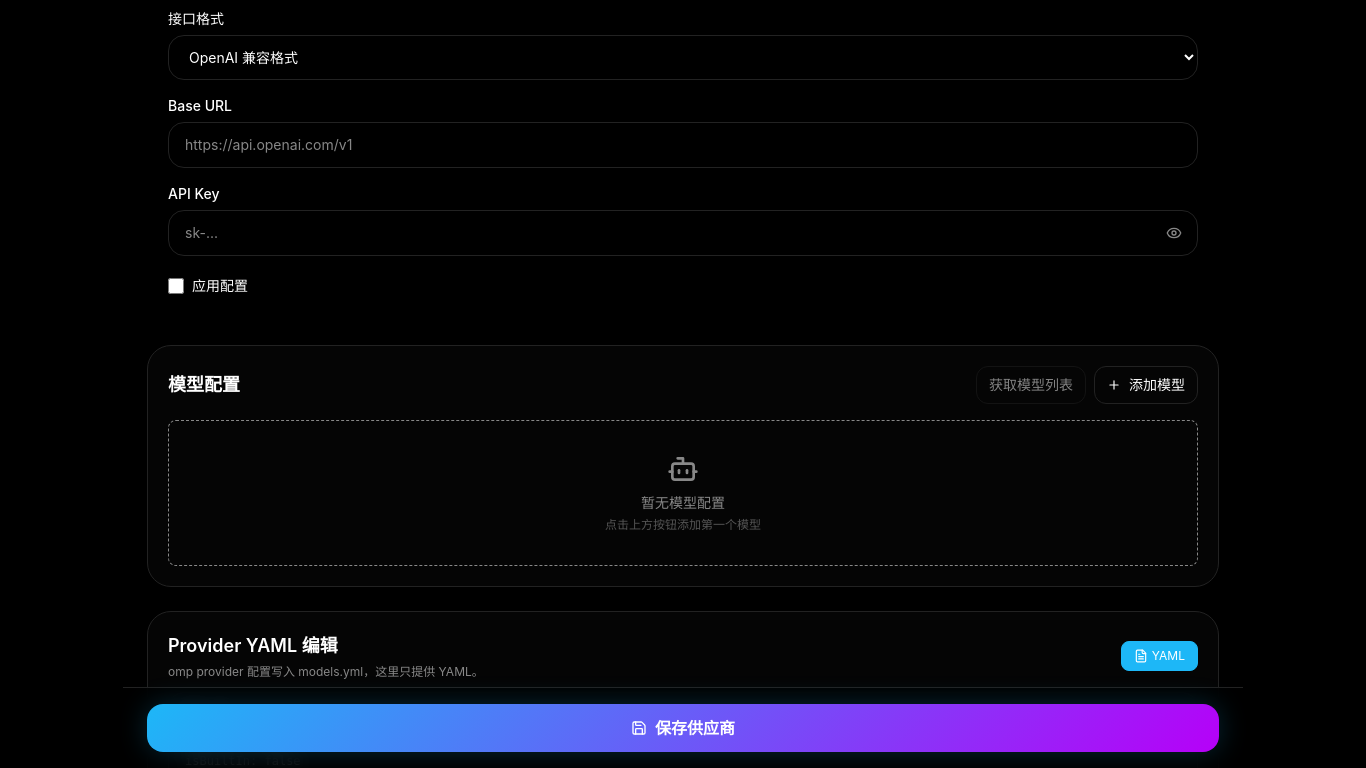
Test: ProviderEditor › cancels model editor
The image size is (1366, 768).
(page scrolled)
Click the button with test id "add-model-btn": [1146, 384] box [1094,366,1198,404]
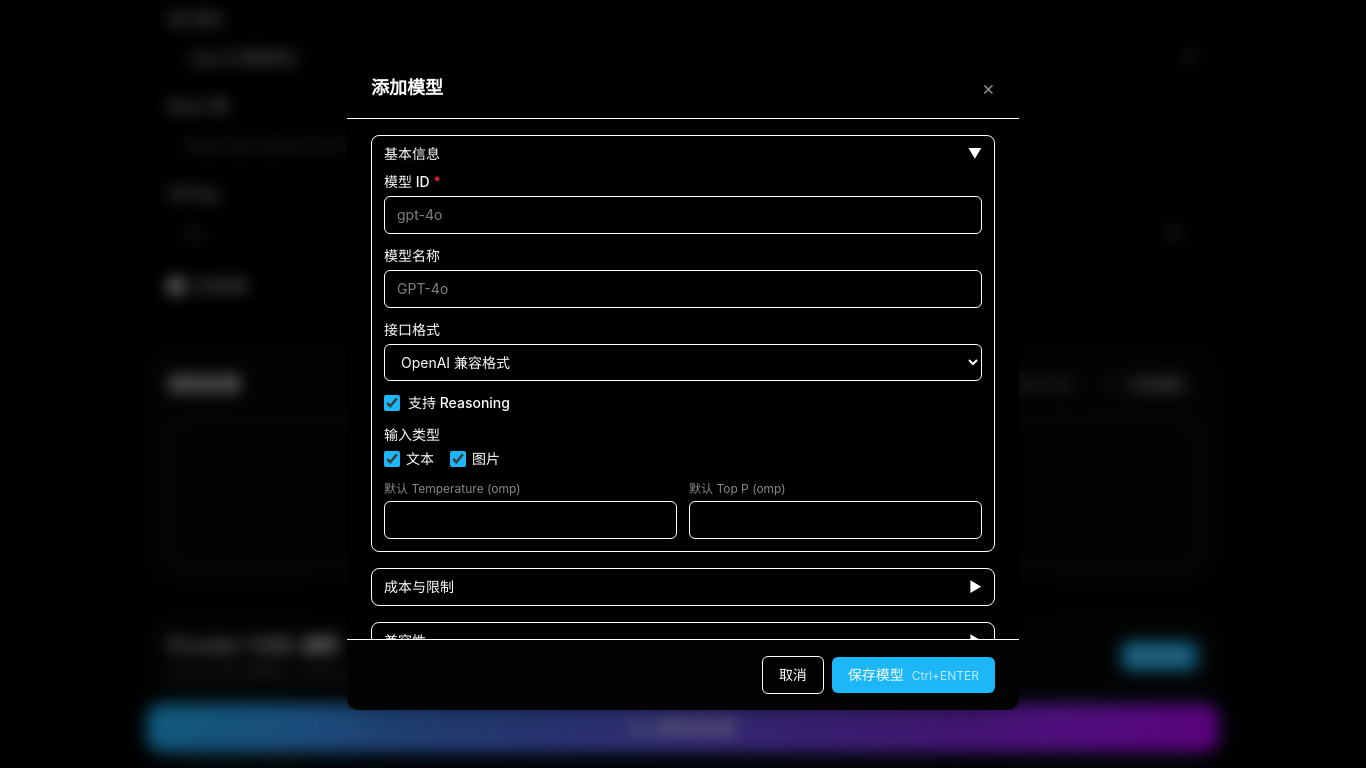
Expected: the element with test id "model-editor-dialog" is shown
Click the button "取消": [793, 675] box [762,656,824,694]
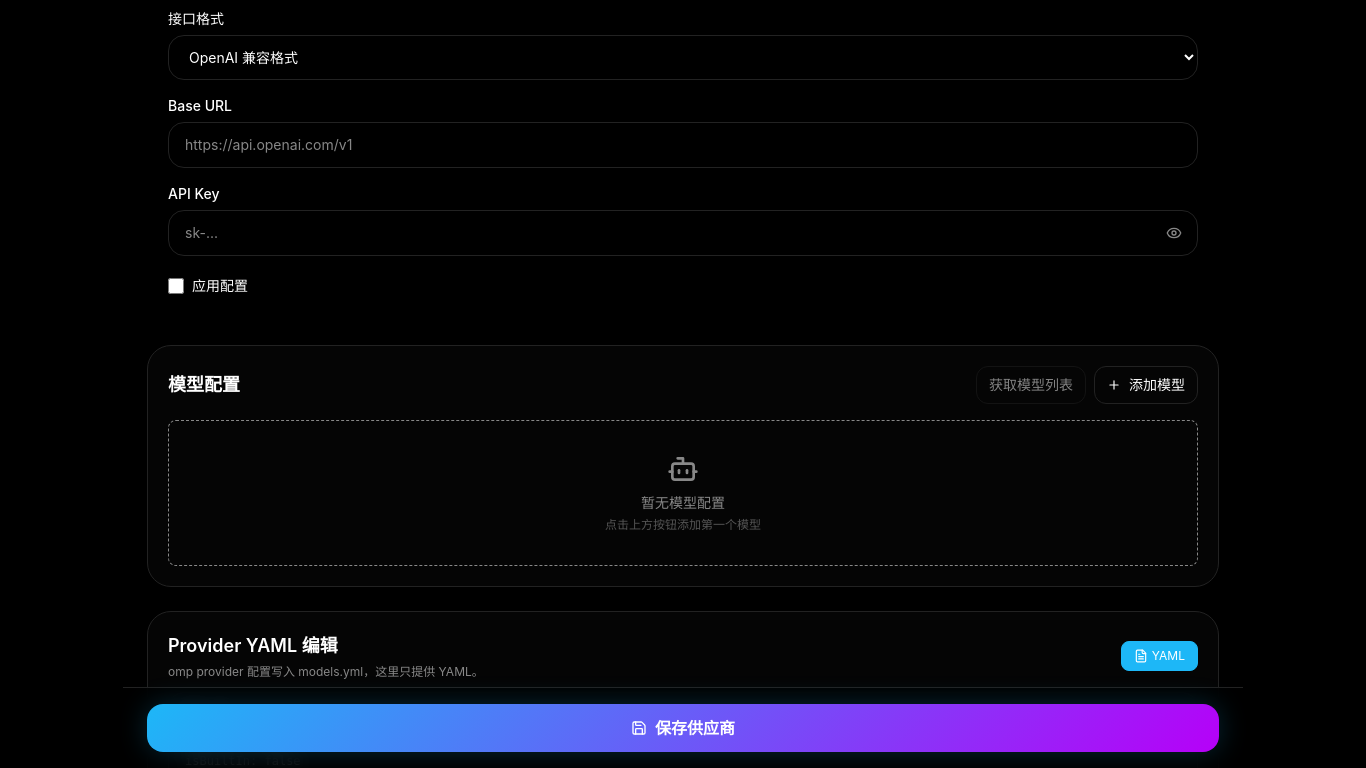
Expected: the element with test id "model-editor-dialog" is gone
